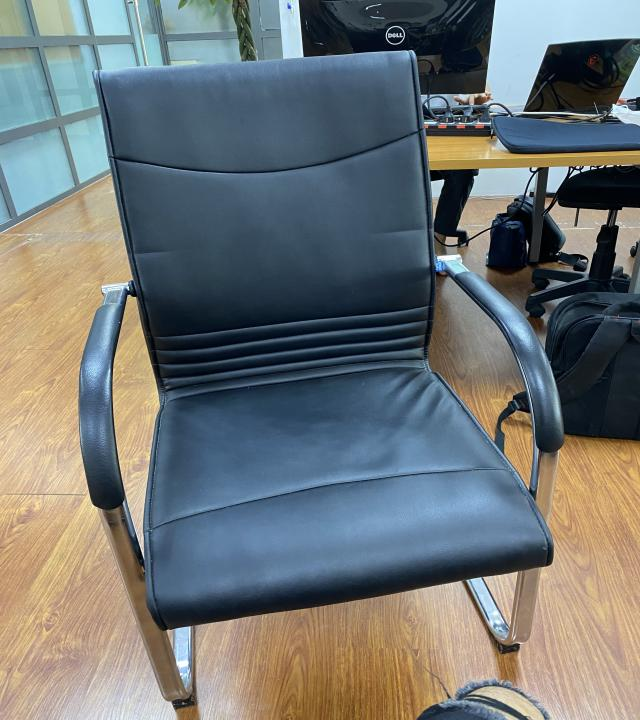SS_03: (73, 48, 567, 710)
